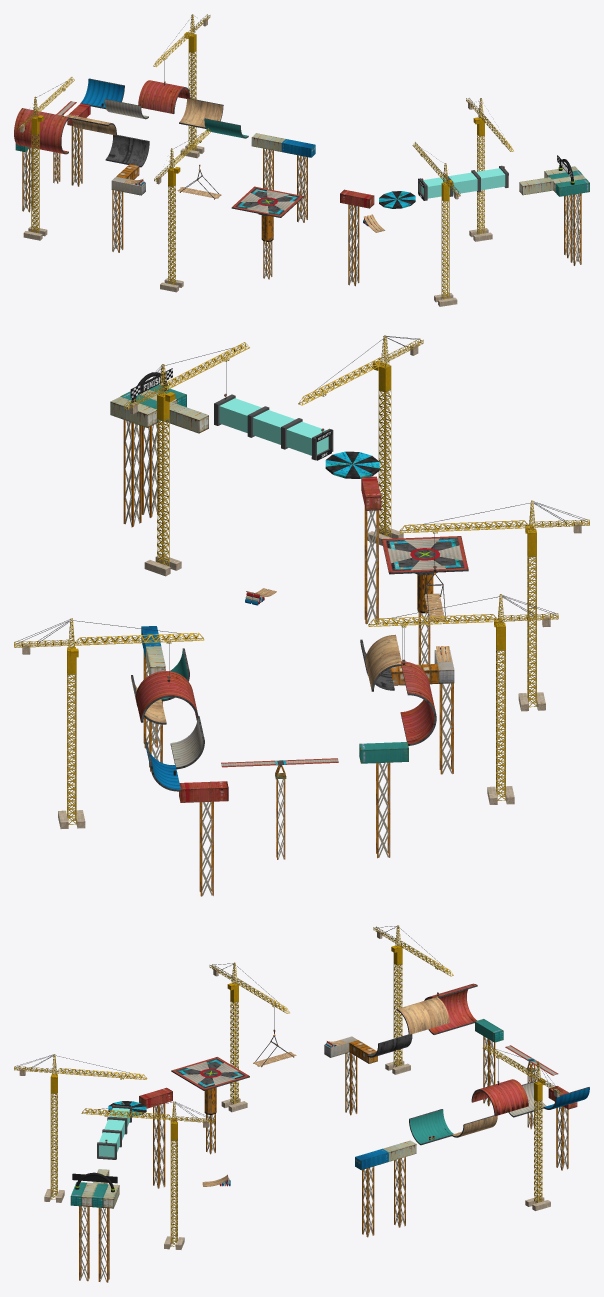
Rendered from 16_Parkour.fbx.
3 renders of one model, top to bottom at view 1: azimuth 30°, elevation 25°; view 2: azimuth 150°, elevation 25°; view 3: azimuth 270°, elevation 25°, orthographic. The views are drawn at different scales.
Visible parts, largest first — view 1: Crane1Yellow__1_, Crane1Yellow__2_, CylinderHalfRed__1_, Crane1Yellow__4_, Crane1Yellow, Crane1Yellow__3_, BalancePlatformMoving, NoGravityZone, CylinderHalfRed, CylinderQuarterBlack, CylinderQuarterWood, CylinderQuarterBlue (+14 smaller); view 2: Crane1Yellow__3_, Crane1Yellow, Crane1Yellow__1_, Crane1Yellow__4_, Crane1Yellow__2_, BalancePlatformMoving, NoGravityZone, CylinderHalfRed__1_, CylinderHalfRed, TurningPlatform, CylinderQuarterWood__1_, stcontainergreen (+9 smaller); view 3: Crane1Yellow__2_, Crane1Yellow__3_, Crane1Yellow, Crane1Yellow__1_, Crane1Yellow__4_, BalancePlatformMoving, CylinderHalfRed, CylinderQuarterWood__1_, CylinderHalfRed__1_, CylinderQuarterGreen, NoGravityZone, orangescaffold__12_ (+4 smaller).
Part boxes in pixels (x1,y1,x2,y2): Crane1Yellow__1_: [17, 77, 74, 240]; Crane1Yellow__2_: [412, 142, 460, 306]; CylinderHalfRed__1_: [14, 108, 68, 154]; Crane1Yellow__4_: [154, 128, 211, 292]; Crane1Yellow: [153, 14, 210, 158]; Crane1Yellow__3_: [466, 98, 513, 241]; BalancePlatformMoving: [231, 186, 303, 217]; NoGravityZone: [421, 168, 505, 198]; CylinderHalfRed: [138, 80, 190, 113]; CylinderQuarterBlack: [105, 135, 149, 167]; CylinderQuarterWood: [179, 98, 223, 128]; CylinderQuarterBlue: [80, 78, 124, 109]; Crane1Yellow__3_: [124, 342, 249, 576]; Crane1Yellow: [14, 618, 204, 828]; Crane1Yellow__1_: [368, 594, 558, 804]; Crane1Yellow__4_: [399, 500, 589, 711]; Crane1Yellow__2_: [298, 335, 423, 545]; BalancePlatformMoving: [381, 536, 468, 574]; NoGravityZone: [219, 398, 328, 455]; CylinderHalfRed__1_: [400, 661, 436, 745]; CylinderHalfRed: [135, 671, 198, 722]; TurningPlatform: [325, 451, 379, 478]; CylinderQuarterWood__1_: [365, 634, 401, 691]; stcontainergreen: [359, 742, 408, 763]; Crane1Yellow__2_: [14, 1054, 147, 1202]; Crane1Yellow__3_: [81, 1101, 214, 1249]; Crane1Yellow: [482, 1044, 562, 1210]; Crane1Yellow__1_: [373, 925, 453, 1074]; Crane1Yellow__4_: [209, 962, 289, 1112]; BalancePlatformMoving: [171, 1057, 249, 1090]; CylinderHalfRed: [471, 1079, 528, 1116]; CylinderQuarterWood__1_: [397, 997, 449, 1034]; CylinderHalfRed__1_: [424, 983, 477, 1034]; CylinderQuarterGreen: [409, 1109, 453, 1145]; NoGravityZone: [99, 1108, 129, 1157]; orangescaffold__12_: [153, 1141, 165, 1188].
Size of the model in its own units: 25214 by 9800 by 28104.
